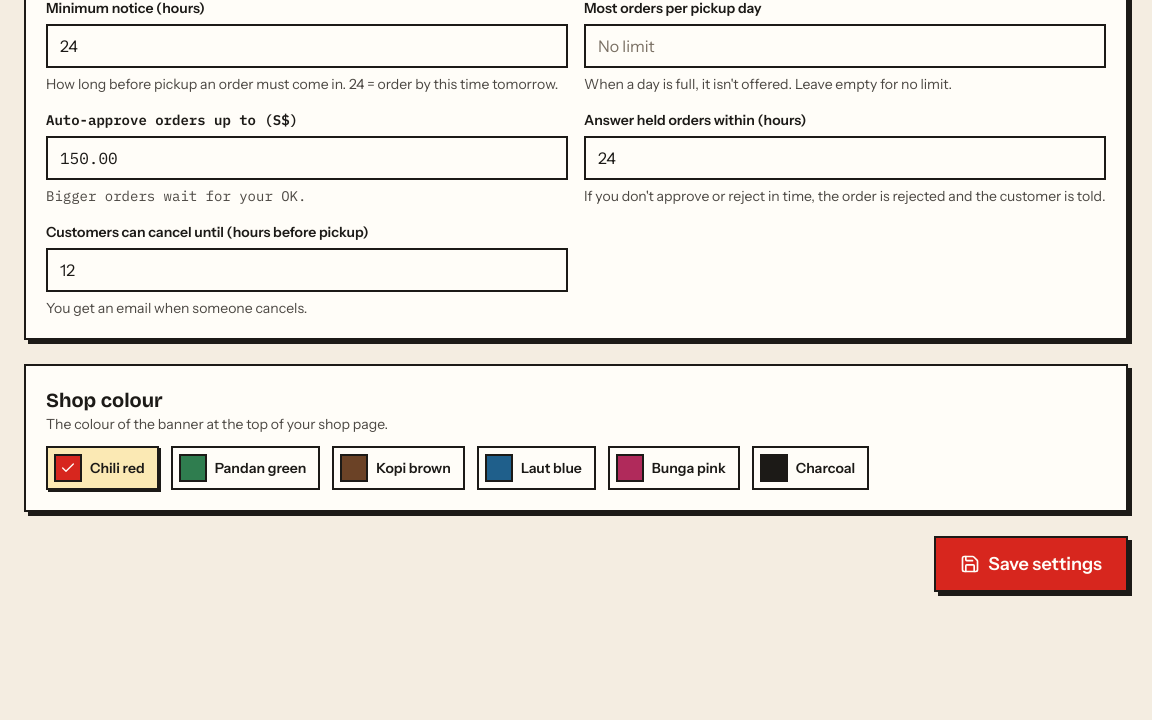
it: owner settings › picks one of the preset shop colours and saves it
(page scrolled)
Expected: the radio button labelled "Chili red" is checked, [46,446,159,490]
Click the radio button labelled "Pandan green": (246, 468) [171,446,320,490]
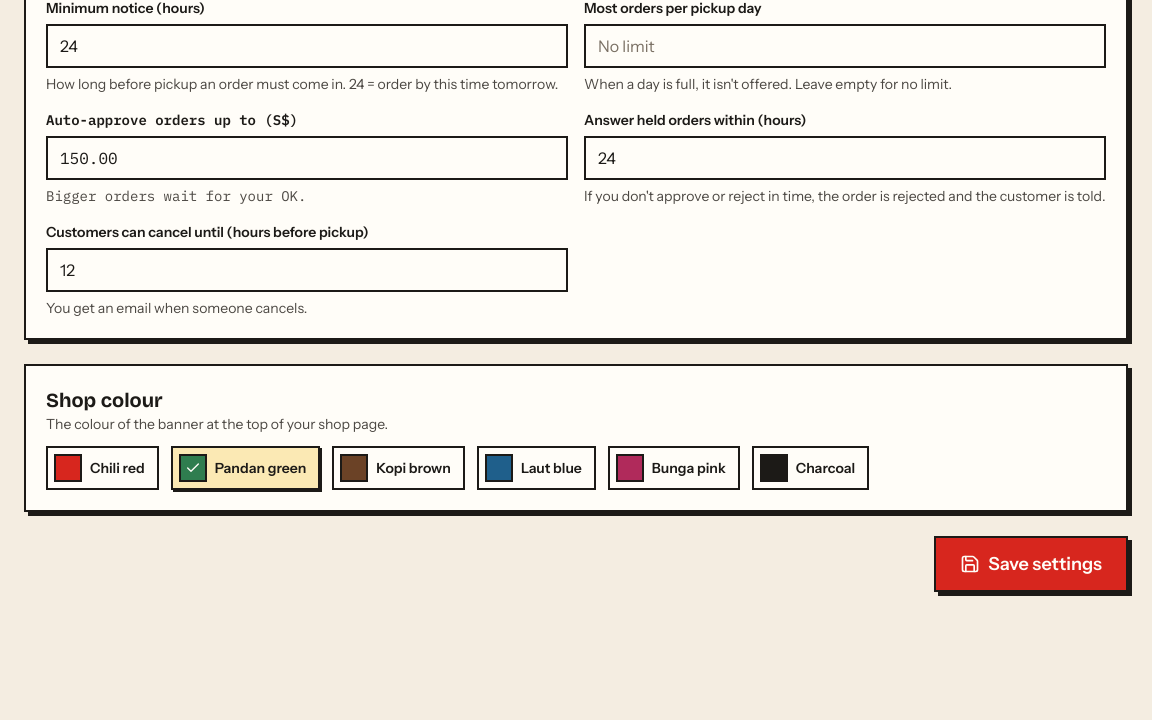
Click the button "Save settings": (1031, 564) [934,536,1128,592]
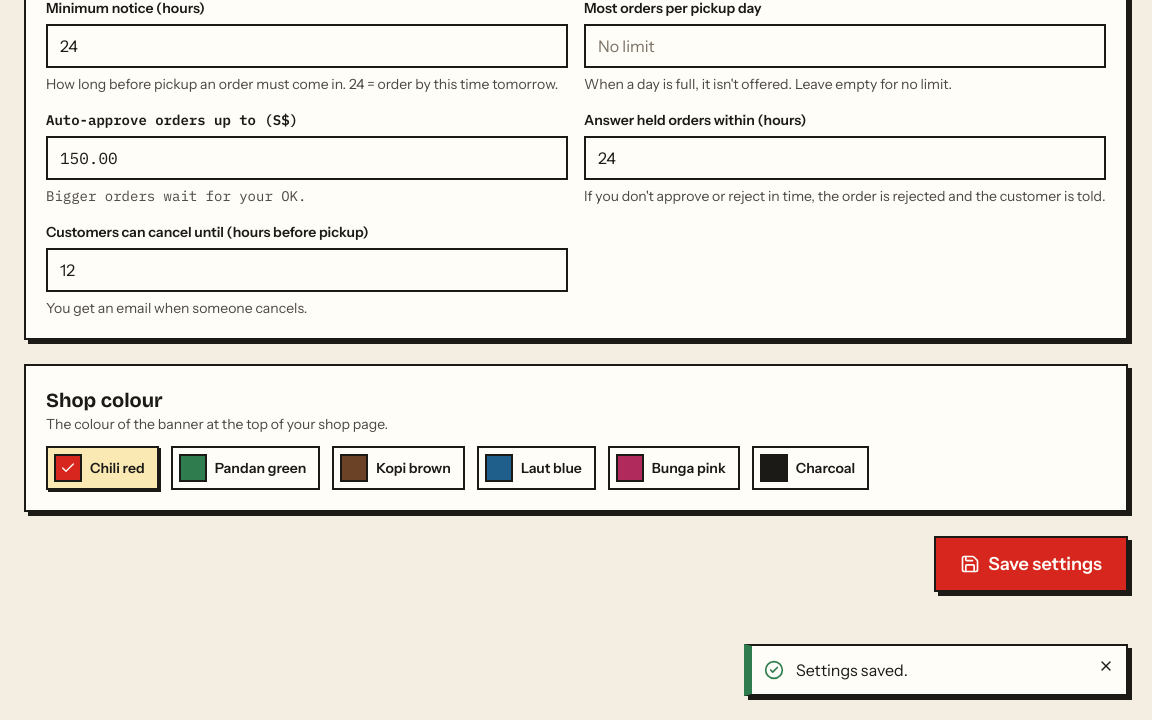
Expected: the text "Settings saved." is shown, [795,659,908,680]
